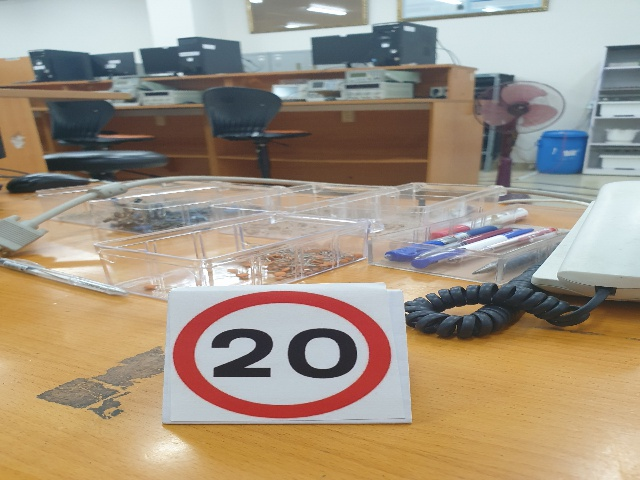Limit 20: (165, 290, 397, 419)
